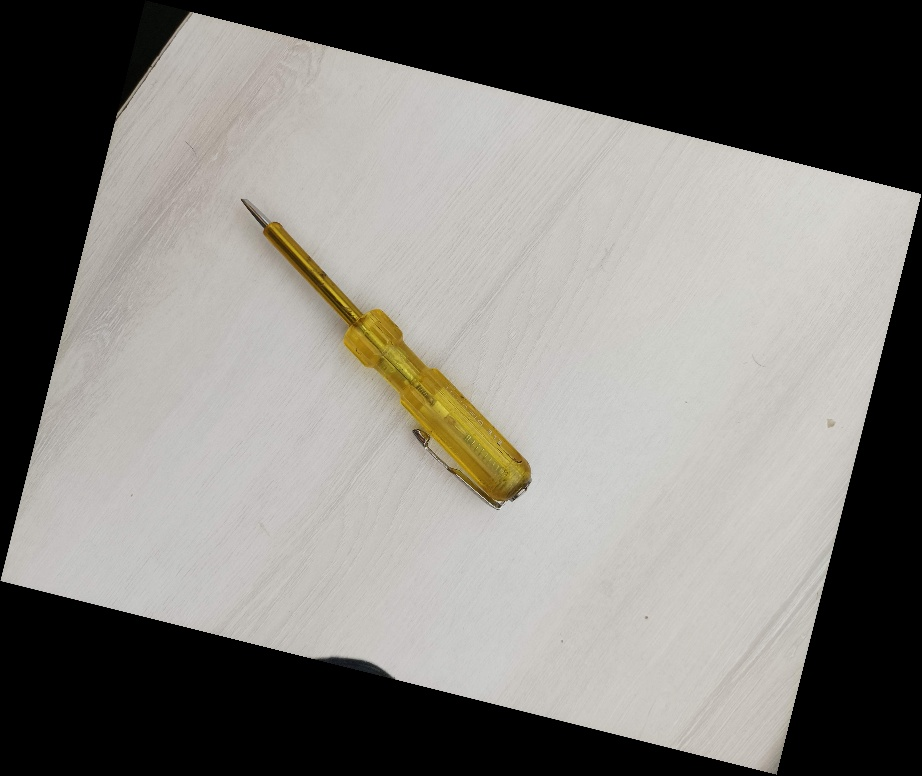screwdriver: (235, 189, 535, 512)
